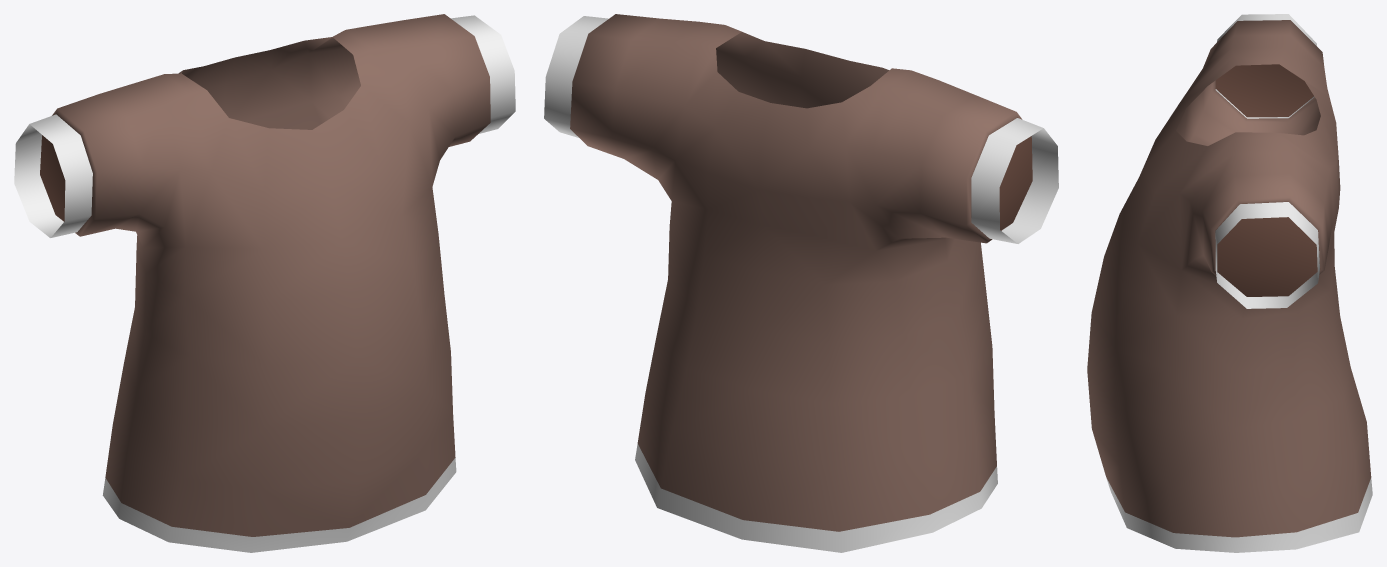
The model's file is Outerwear_Brown_013.glb.
3 views of the same model, side by side, from view 1: azimuth 30°, elevation 25°; view 2: azimuth 150°, elevation 25°; view 3: azimuth 270°, elevation 25° (orthographic). The views are drawn at different scales.
Parts seen in each view (by area): view 1: Outerwear_Brown_013; view 2: Outerwear_Brown_013; view 3: Outerwear_Brown_013.
Part boxes in pixels (x1,y1,x2,y2): Outerwear_Brown_013: (14,14,515,552); Outerwear_Brown_013: (544,14,1058,552); Outerwear_Brown_013: (1087,14,1372,552).
Size of the model in its own units: 0.6893 by 0.6211 by 0.4041.
Materials: 1 (1 with a texture image).
